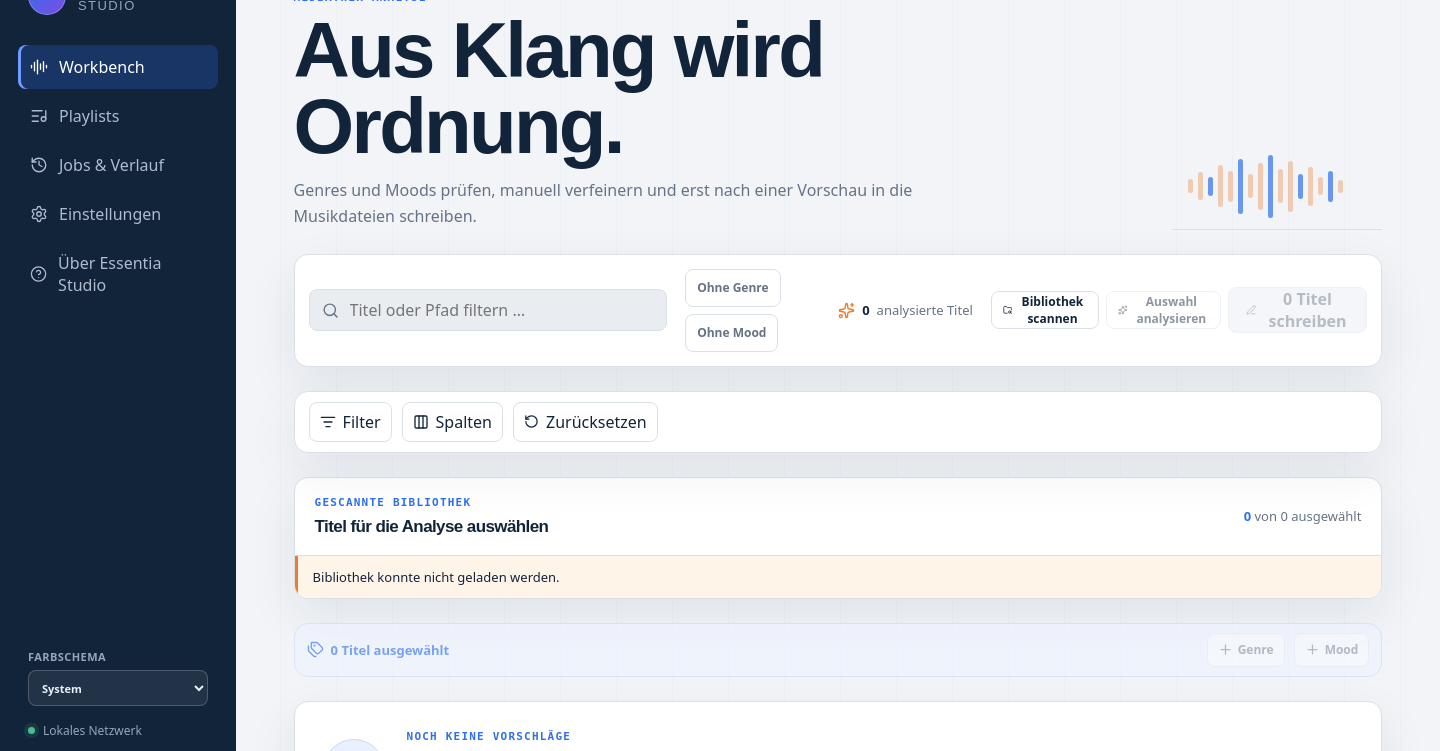
shows safe CUDA tuning controls in the CUDA image
Click the button "Einstellungen" at (118, 214), box left=18, top=192, right=218, bottom=236
(page scrolled)
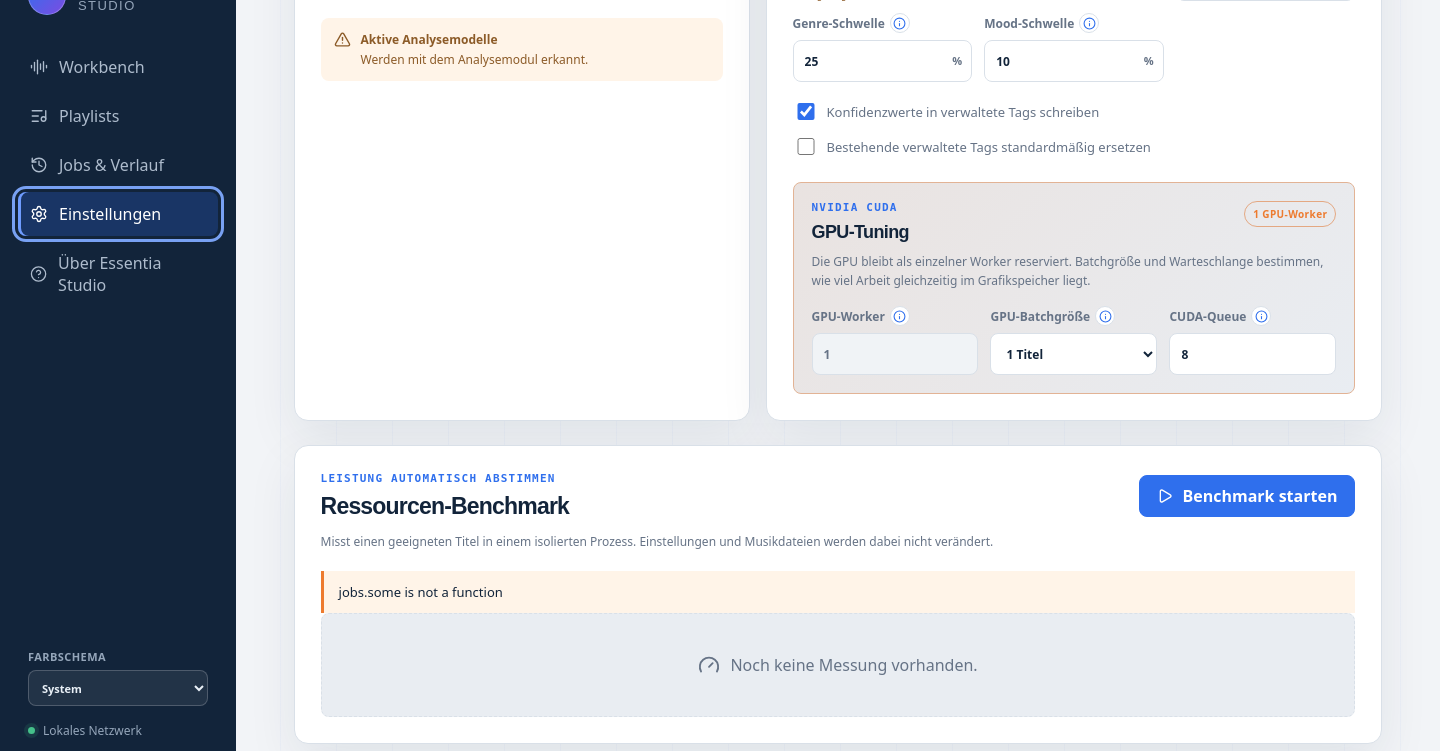
Check: the heading "GPU-Tuning" is shown, box left=812, top=222, right=909, bottom=243
Check: the number field labelled "GPU-Worker" is disabled, box left=812, top=333, right=978, bottom=375
Check: the dropdown labelled "GPU-Batchgröße" shows "1 Titel", box left=990, top=333, right=1158, bottom=375
